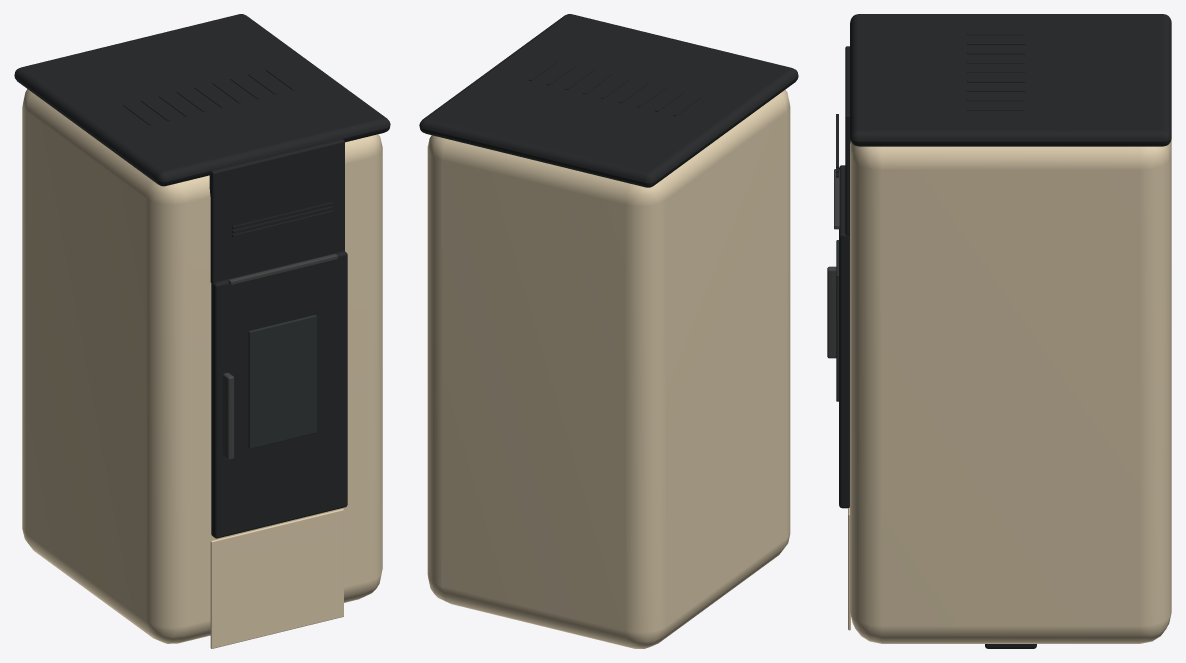
The model's file is nordica-guenda-idro-evo-avorio.glb.
The picture shows the model from 3 angles, left to right: view 1: azimuth 30°, elevation 25°; view 2: azimuth 150°, elevation 25°; view 3: azimuth 270°, elevation 25°; orthographic projection. The views are drawn at different scales.
Visible parts, largest first — view 1: Corpo laterale, Copertura superiore, Cornice sportello, Base frontale, Pannello superiore, Vetro sportello, Maniglia sportello, Presa superiore; view 2: Corpo laterale, Copertura superiore; view 3: Corpo laterale, Copertura superiore, Cornice sportello, Pannello superiore, Maniglia sportello.
Part boxes in pixels (bbox=[...]): Corpo laterale: bbox=[22, 89, 382, 643]; Copertura superiore: bbox=[14, 14, 390, 186]; Cornice sportello: bbox=[211, 251, 347, 538]; Base frontale: bbox=[210, 509, 343, 648]; Pannello superiore: bbox=[209, 139, 344, 283]; Vetro sportello: bbox=[248, 315, 316, 448]; Maniglia sportello: bbox=[223, 373, 234, 460]; Presa superiore: bbox=[228, 254, 337, 285]; Corpo laterale: bbox=[427, 89, 790, 648]; Copertura superiore: bbox=[419, 14, 798, 187]; Corpo laterale: bbox=[850, 139, 1171, 643]; Copertura superiore: bbox=[850, 14, 1171, 146]; Cornice sportello: bbox=[839, 165, 849, 508]; Pannello superiore: bbox=[845, 46, 850, 235]; Maniglia sportello: bbox=[827, 266, 836, 358].
Bounding box in the file's own units: 0.576 × 1.16 × 0.6834.
